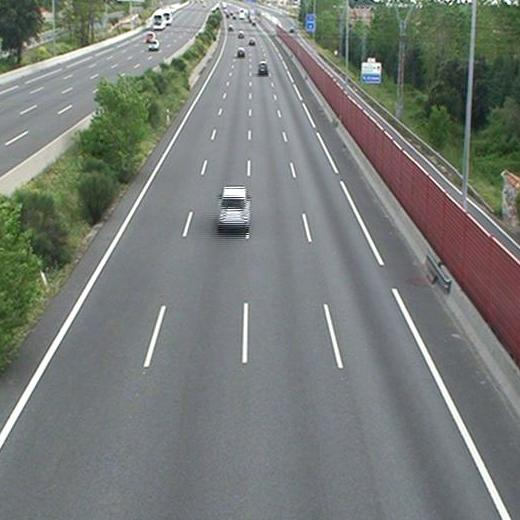car: (219, 187, 250, 228), (258, 62, 268, 75), (236, 48, 243, 56)
